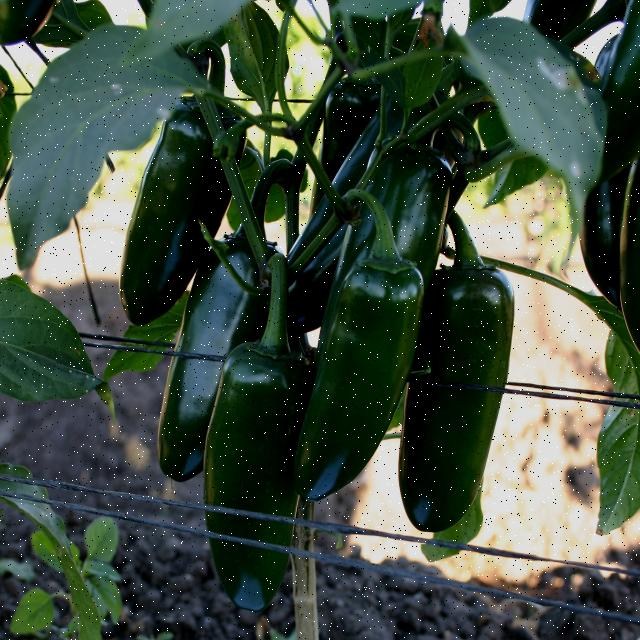Chili Pepper: (294, 220, 427, 507), (118, 74, 247, 331), (150, 228, 272, 482), (412, 260, 518, 535), (210, 353, 297, 605)
